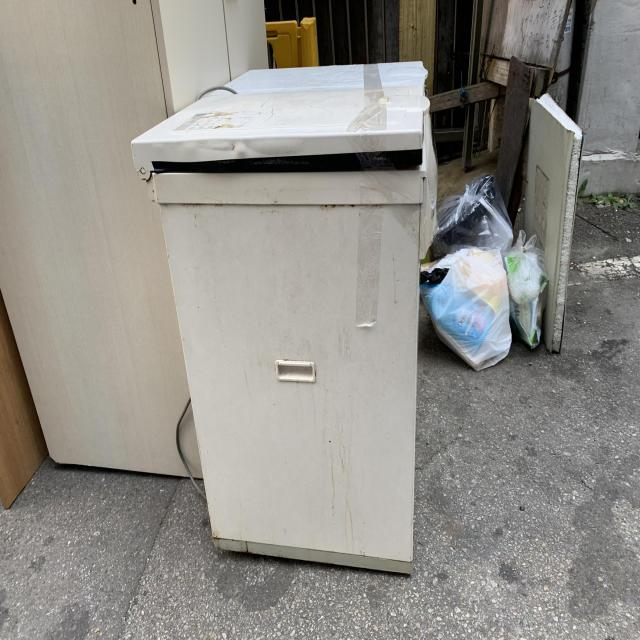refrigerator: (128, 61, 428, 576)
